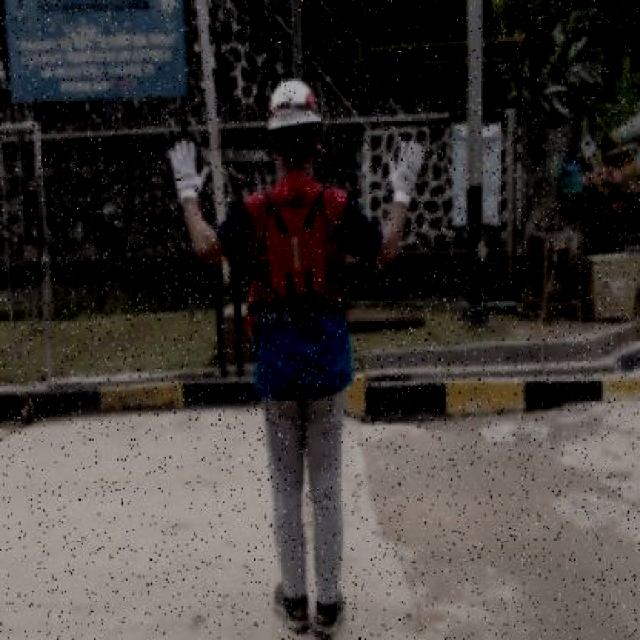Boots: (272, 576, 316, 635), (314, 584, 344, 633)
Gloves: (167, 136, 213, 204), (385, 136, 427, 210)
Helmet: (264, 73, 324, 136)
Mask: (263, 206, 329, 306)
